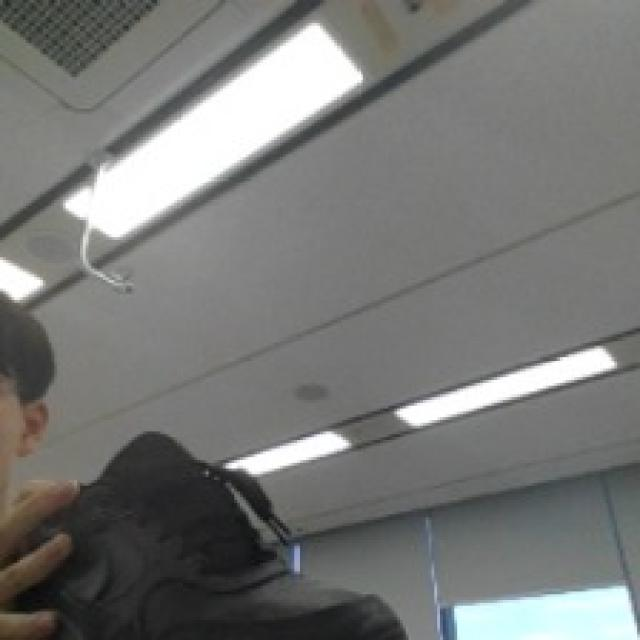shoe: (0, 429, 414, 640)
